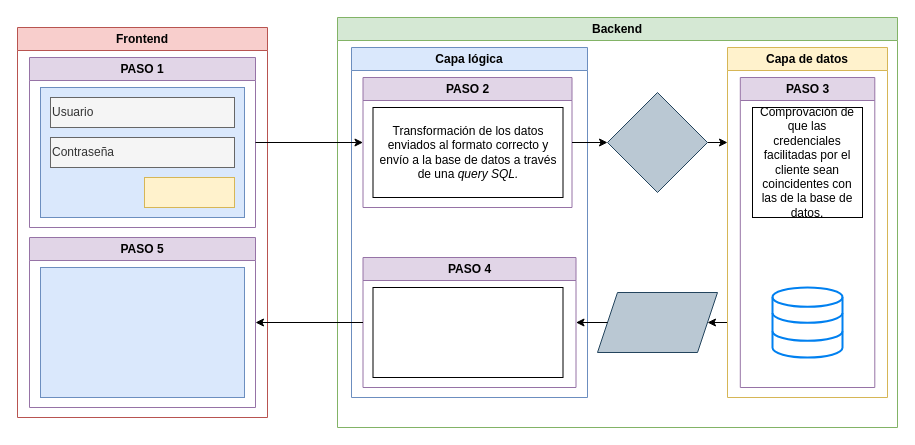
The diagram is 915 pixels wide and 445 high, and some of its shapes have lost their labels. Here are the shapes that lost their labels. From the top down, the centre of each, then its label:
pixel 657 142: Las credenciales son correctas?
pixel 189 192: Iniciar sesión
pixel 142 332: Credenciales correctas Sesión iniciada
pixel 467 332: Autentificación de los datos y envío de una respuesta de credenciales correctas.
pixel 657 322: Credenciales correctas
